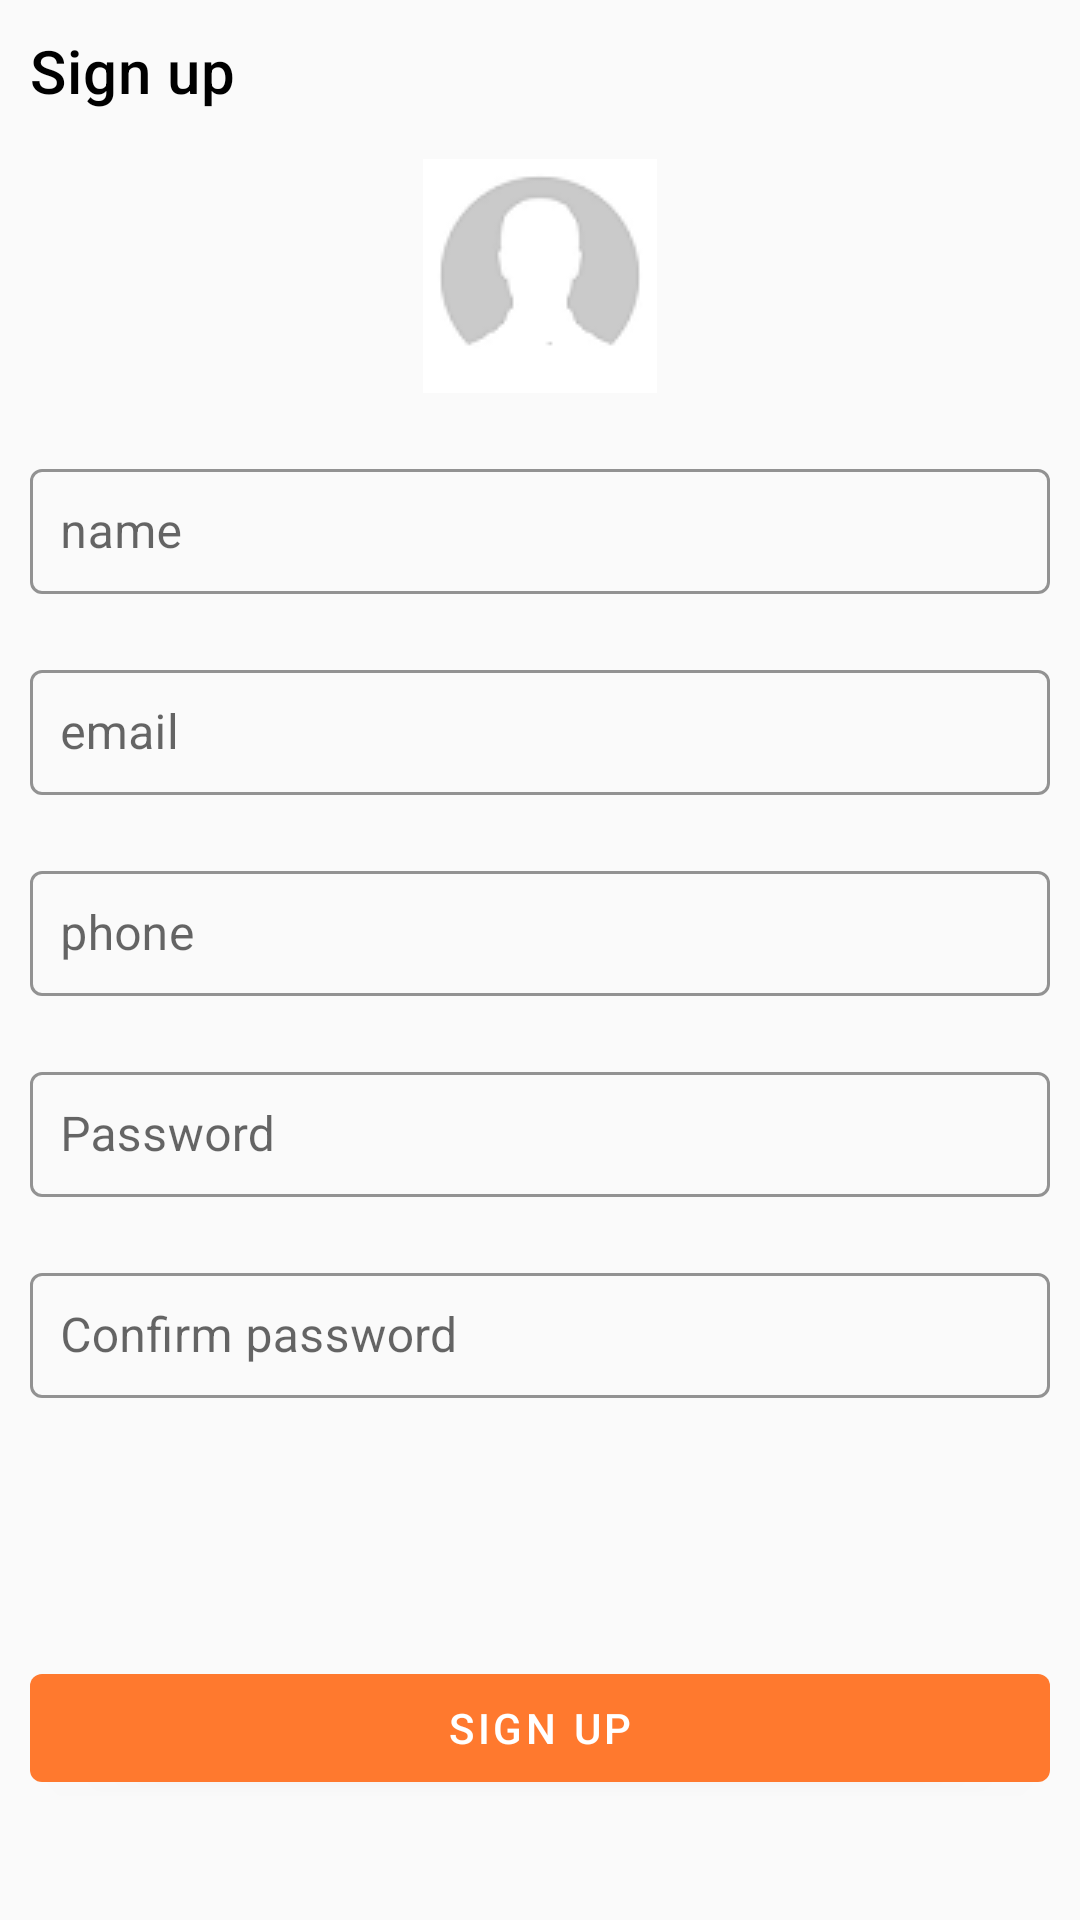

Locate icon controls on the screen. Image size 1080×1920, boxes as {"left": x1, "top": y1, "right": x2, "bottom": y2}.
profile: {"left": 441, "top": 177, "right": 639, "bottom": 345}
